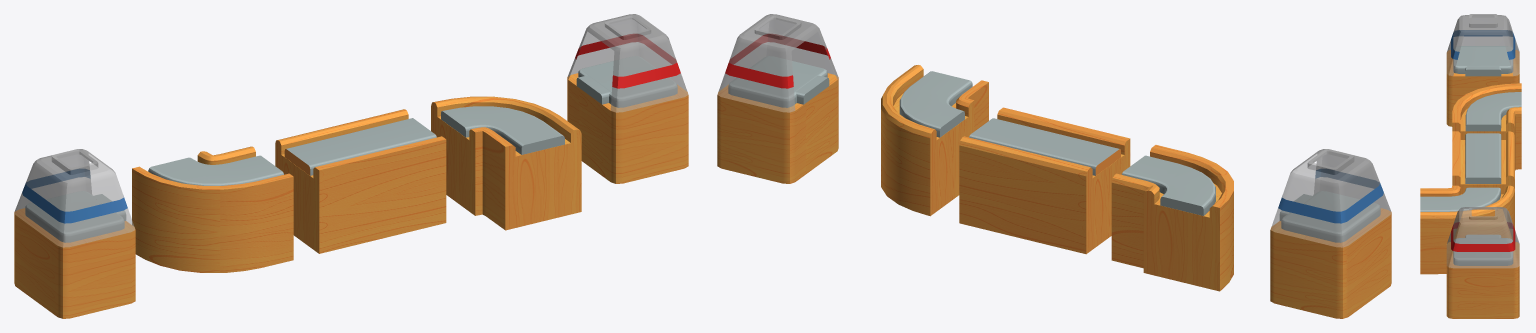
File: bangchuyen.fbx
3 views of the same model, side by side, from view 1: azimuth 30°, elevation 25°; view 2: azimuth 150°, elevation 25°; view 3: azimuth 270°, elevation 25° (orthographic). The views are drawn at different scales.
Visible parts, largest first — view 1: polySurface76, polySurface78, polySurface80, polySurface82, polySurface83, pCube14, pCube16, pCube15, pCube17, polySurface77, polySurface81, polySurface79; view 2: polySurface76, polySurface83, polySurface82, polySurface78, polySurface80, pCube14, pCube16, pCube15, pCube17, polySurface77, polySurface79, polySurface81; view 3: polySurface83, polySurface80, pCube15, pCube17, polySurface82, pCube14, pCube16, polySurface78, polySurface77, polySurface76, polySurface79, polySurface81.
Boxes of the visible parts, box(x1,y1,x2,y2) form: polySurface76: box(275, 109, 446, 253); polySurface78: box(132, 146, 293, 272); polySurface80: box(431, 96, 581, 230); polySurface82: box(14, 191, 135, 318); polySurface83: box(567, 56, 688, 183); pCube14: box(15, 149, 134, 247); pCube16: box(15, 149, 134, 246); pCube15: box(568, 14, 687, 112); pCube17: box(568, 14, 687, 112); polySurface77: box(284, 118, 436, 175); polySurface81: box(441, 106, 564, 154); polySurface79: box(148, 155, 283, 185); polySurface76: box(959, 107, 1130, 254); polySurface83: box(717, 56, 838, 183); polySurface82: box(1270, 191, 1391, 318); polySurface78: box(1111, 145, 1233, 291); polySurface80: box(881, 65, 988, 216); pCube14: box(1271, 149, 1390, 247); pCube16: box(1271, 149, 1390, 246); pCube15: box(718, 14, 837, 112); pCube17: box(718, 14, 837, 112); polySurface77: box(969, 118, 1120, 175); polySurface79: box(1122, 155, 1215, 215); polySurface81: box(899, 71, 972, 137); polySurface83: box(1446, 235, 1519, 318); polySurface80: box(1420, 185, 1514, 274); pCube15: box(1447, 207, 1519, 267); pCube17: box(1447, 207, 1519, 267); polySurface82: box(1446, 46, 1519, 126); pCube14: box(1447, 14, 1519, 75); pCube16: box(1447, 14, 1519, 75); polySurface78: box(1452, 83, 1521, 170); polySurface77: box(1465, 133, 1501, 183); polySurface76: box(1452, 131, 1514, 194); polySurface79: box(1465, 92, 1521, 131); polySurface81: box(1420, 187, 1500, 211).
Bounding box in the file's own units: 42.35 × 8.54 × 8.3.
2 materials, 1 textured.
